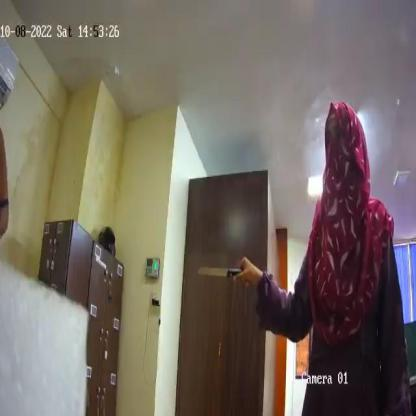Knife: (196, 261, 245, 286)
